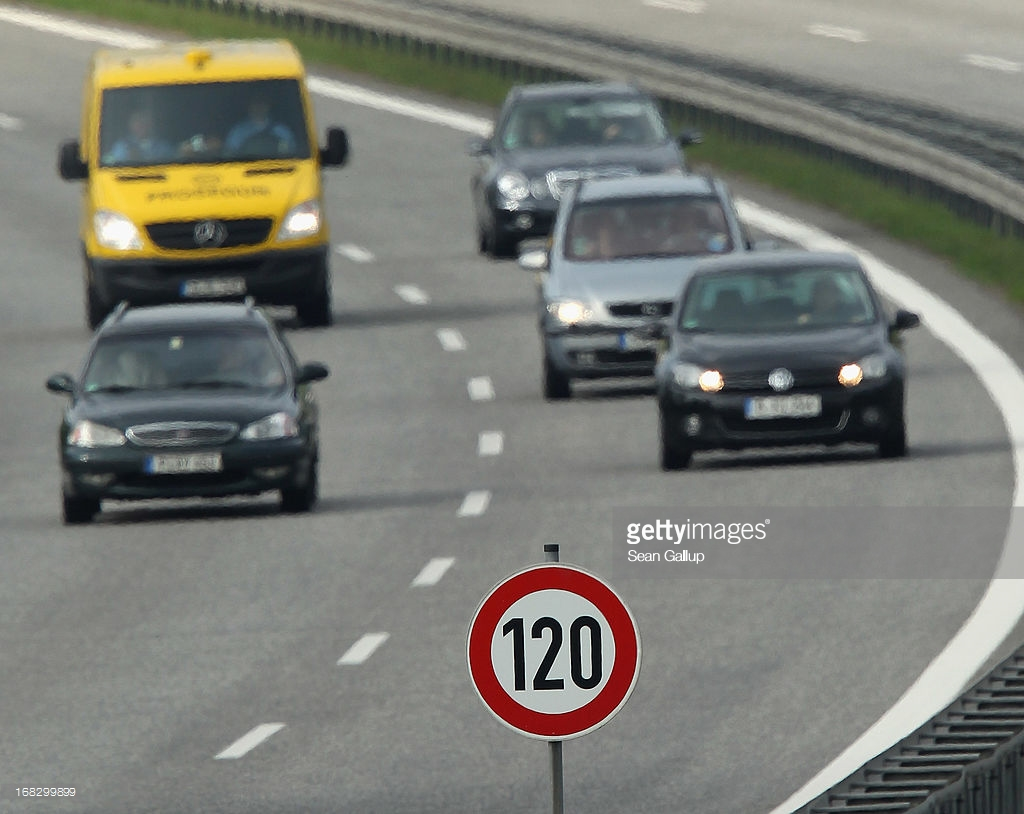Speed_limit_120km: (461, 564, 644, 740)
car: (60, 43, 356, 333), (39, 299, 343, 516), (638, 254, 927, 470), (516, 174, 778, 406)
